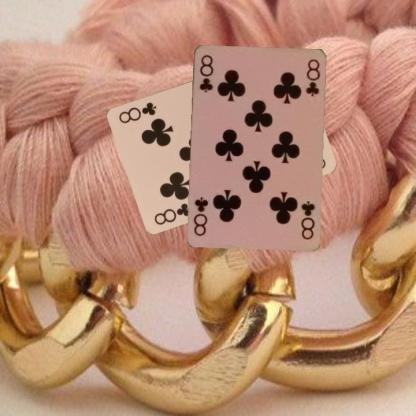8c: (151, 200, 193, 226), (298, 198, 317, 240), (197, 52, 214, 94)
